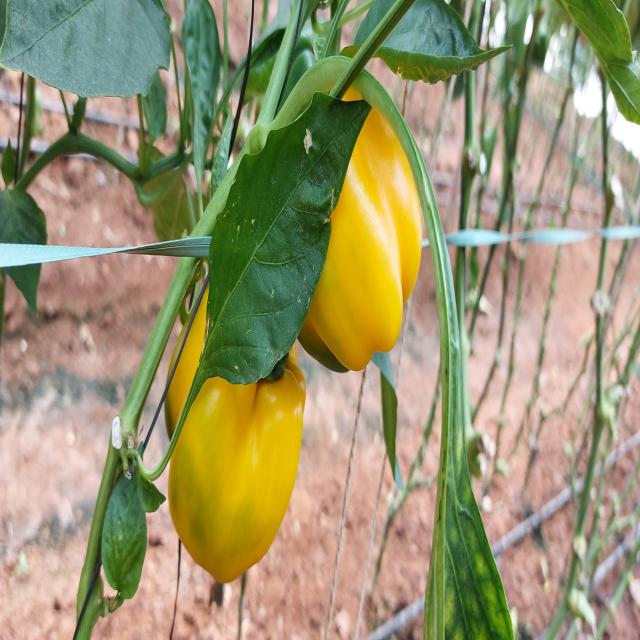Yellow-Ready-to-Harvest: (261, 85, 424, 373), (167, 260, 306, 589)
